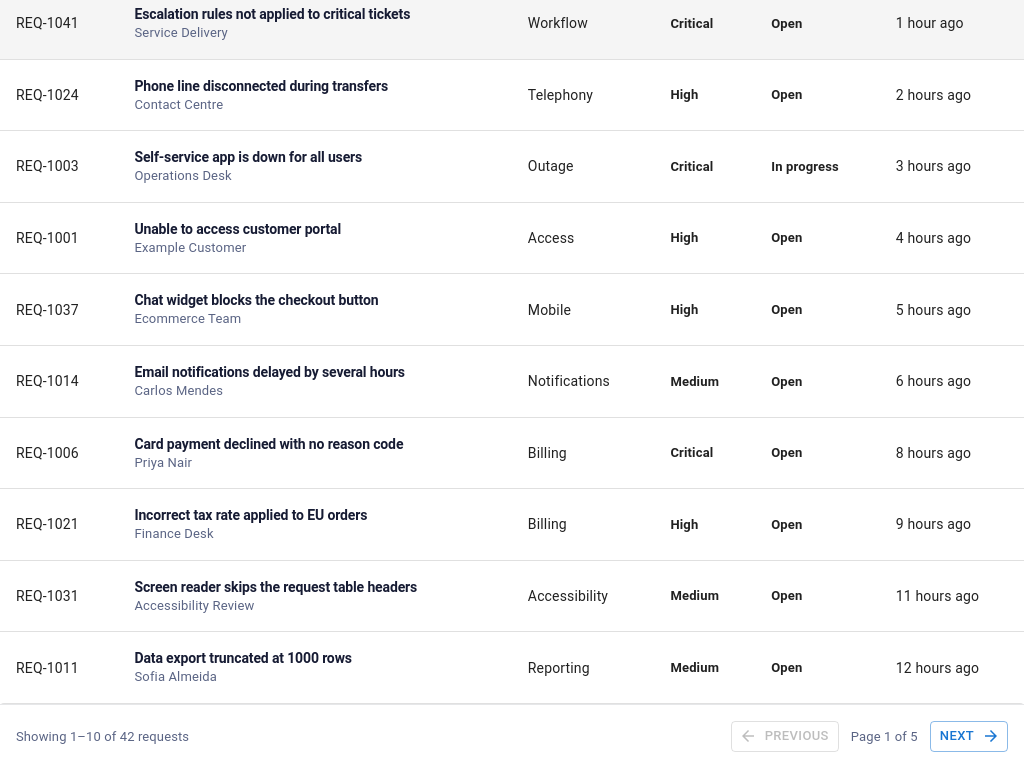
Test case: RequestListPage › moves between pages
(page scrolled)
Expected: the text "REQ-1001" is shown, top-left (0, 202), bottom-right (118, 274)
Click the button "Next" at (969, 736), box top-left (930, 721), bottom-right (1008, 752)
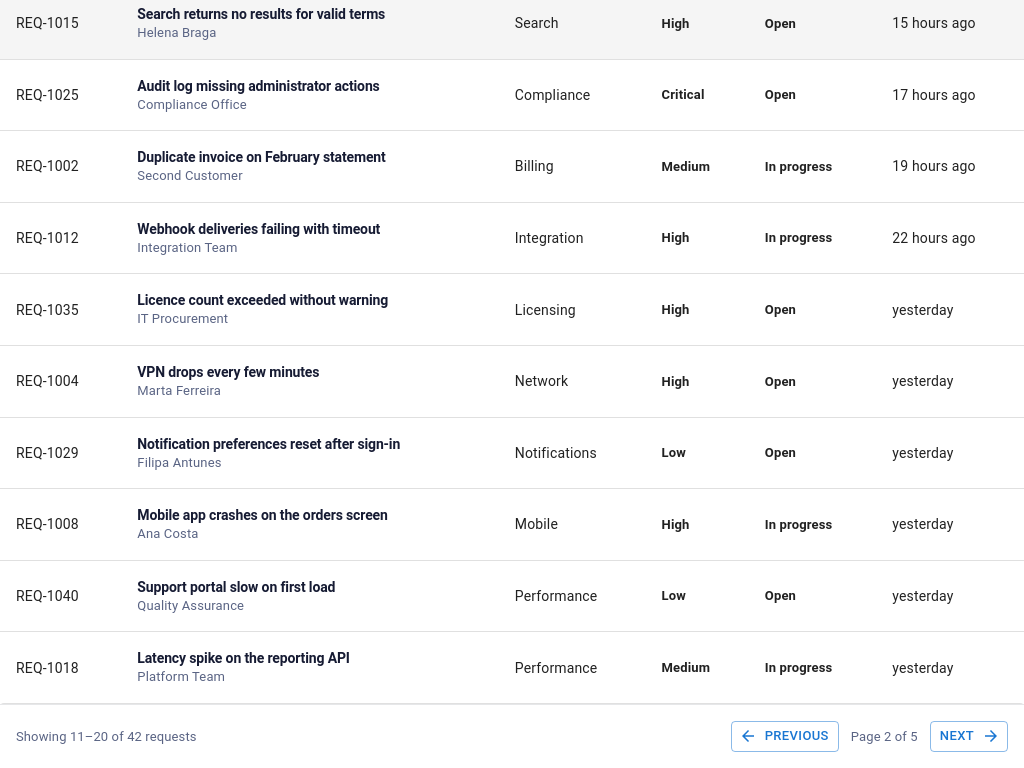
Now the text "Page 2 of 5" is shown, box top-left (851, 727), bottom-right (918, 746)
Now the text "Showing 11–20 of 42 requests" is shown, box top-left (16, 727), bottom-right (197, 746)
